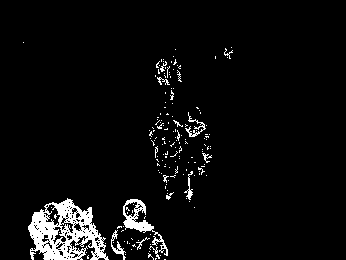person: (110, 196, 170, 260), (180, 107, 212, 203), (149, 109, 182, 200)
